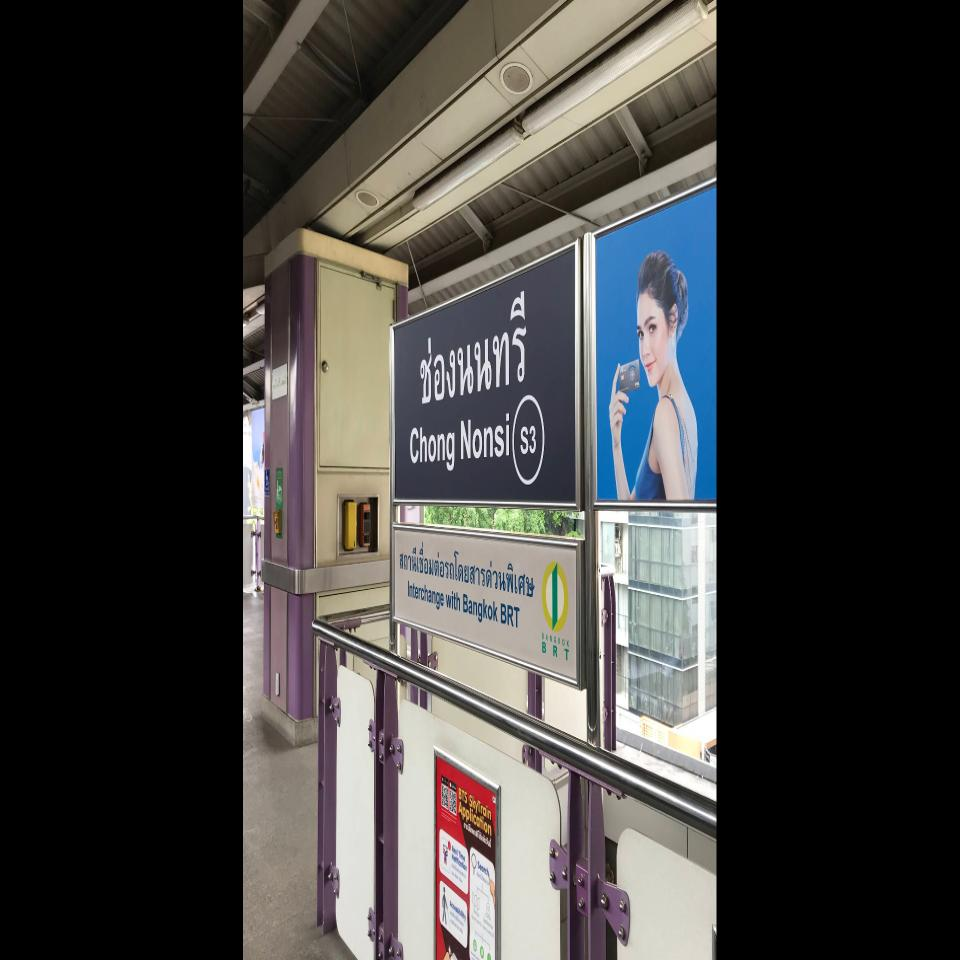Chong Nonsi: (391, 239, 583, 510)
